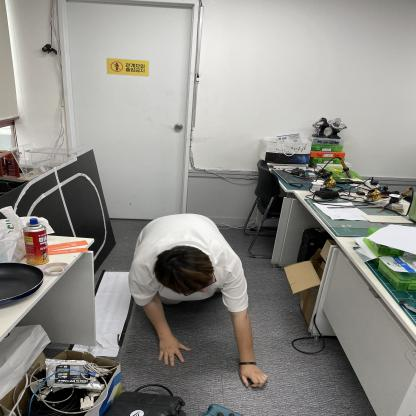fall: (134, 210, 267, 389)
